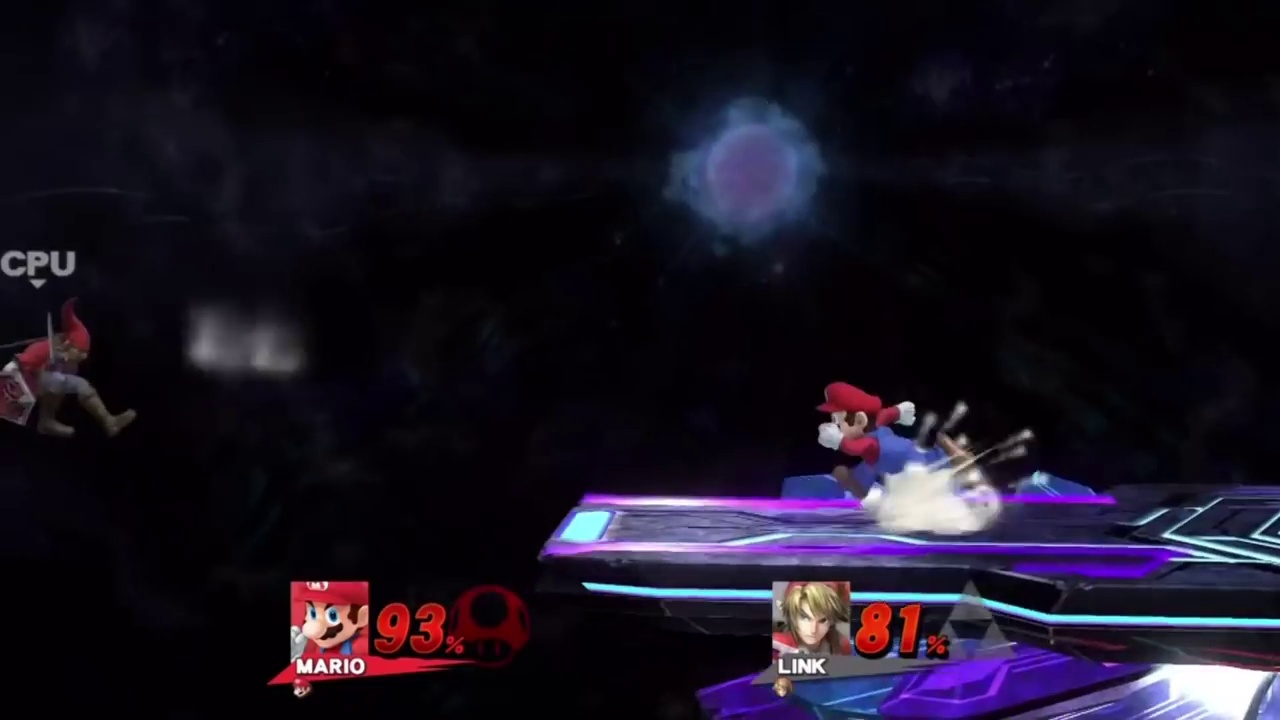Mario: (815, 382, 973, 490)
